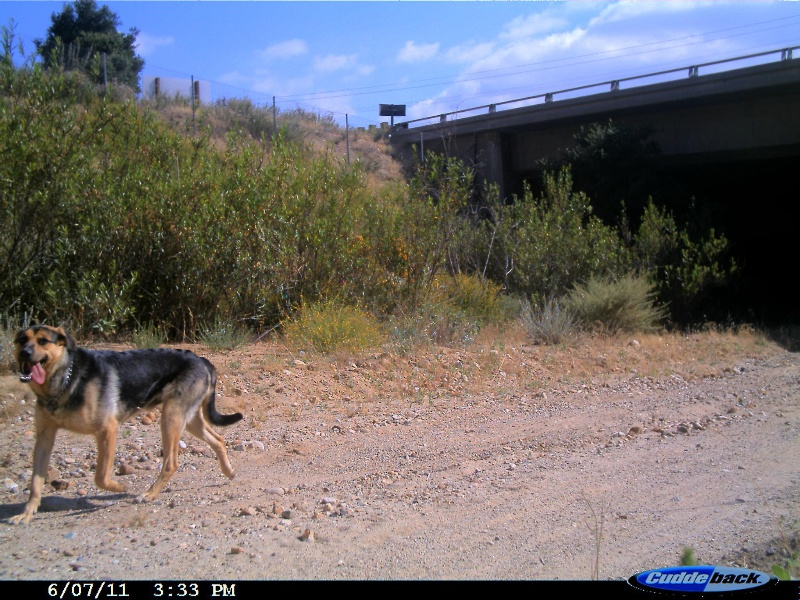dog: (7, 316, 248, 533)
